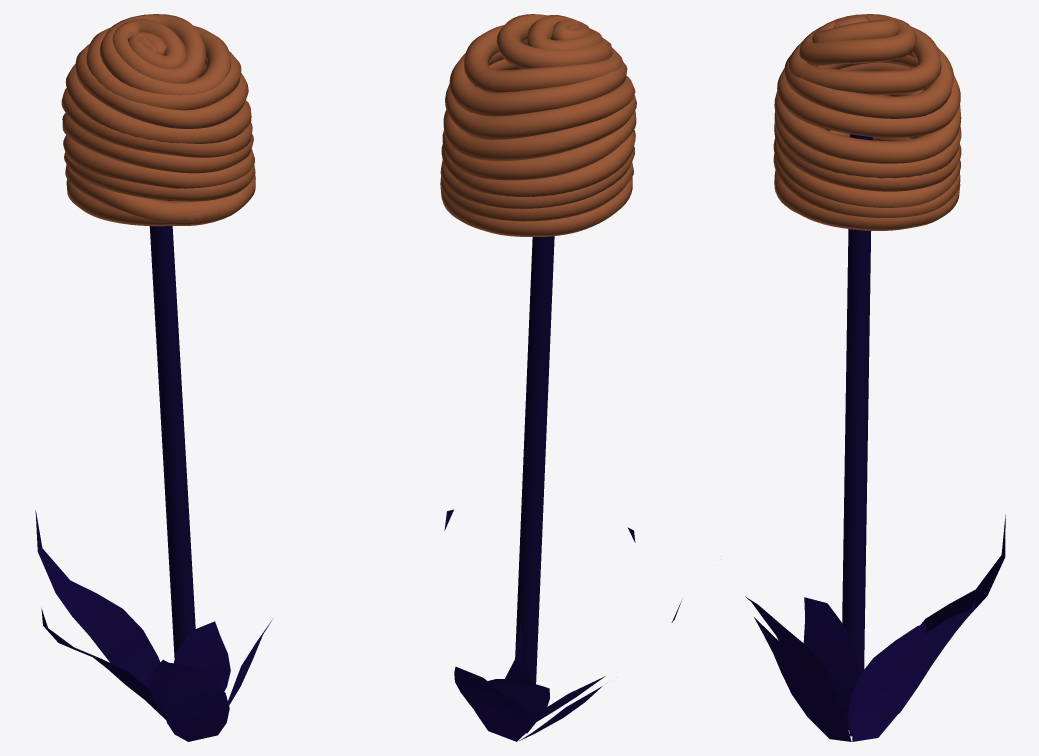
The picture shows the model from 3 angles, left to right: view 1: azimuth 30°, elevation 25°; view 2: azimuth 150°, elevation 25°; view 3: azimuth 270°, elevation 25°; orthographic projection. The views are drawn at different scales.
Parts seen in each view (by area): view 1: brush_Icing_g1_b0, brush_Petal_g1_b0; view 2: brush_Icing_g1_b0, brush_Petal_g1_b0; view 3: brush_Icing_g1_b0, brush_Petal_g1_b0.
Boxes of the visible parts, bbox=[...] form: brush_Icing_g1_b0: bbox=[61, 14, 255, 658]; brush_Petal_g1_b0: bbox=[35, 510, 273, 741]; brush_Icing_g1_b0: bbox=[440, 14, 636, 684]; brush_Petal_g1_b0: bbox=[444, 509, 681, 741]; brush_Icing_g1_b0: bbox=[773, 14, 961, 730]; brush_Petal_g1_b0: bbox=[745, 515, 1005, 741].
Bounding box in the file's own units: 3.74 × 9.47 × 3.82.
